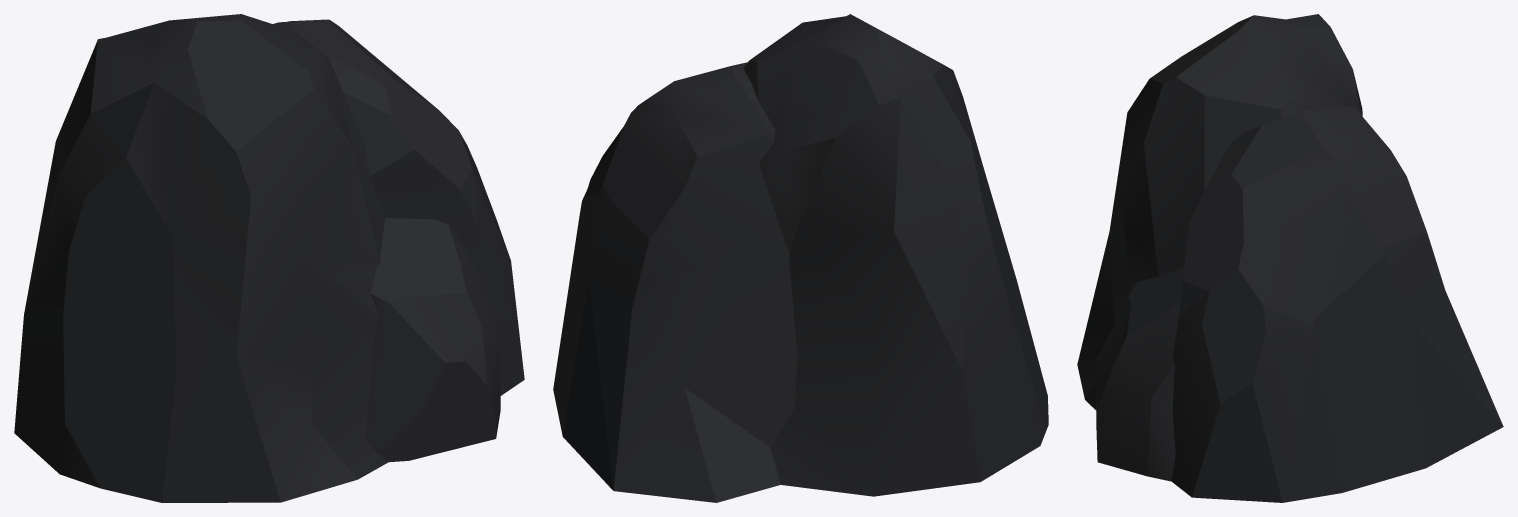
The model's file is Rocks_2.fbx.
The picture shows the model from 3 angles, left to right: view 1: azimuth 30°, elevation 25°; view 2: azimuth 150°, elevation 25°; view 3: azimuth 270°, elevation 25°; orthographic projection. The views are drawn at different scales.
Visible parts, largest first — view 1: Rocks_2; view 2: Rocks_2; view 3: Rocks_2.
Part boxes in pixels (box(x1,y1,x2,y2)): Rocks_2: box(14, 14, 524, 502); Rocks_2: box(553, 14, 1048, 502); Rocks_2: box(1077, 14, 1503, 502).
Size of the model in its own units: 168 by 142 by 153.
